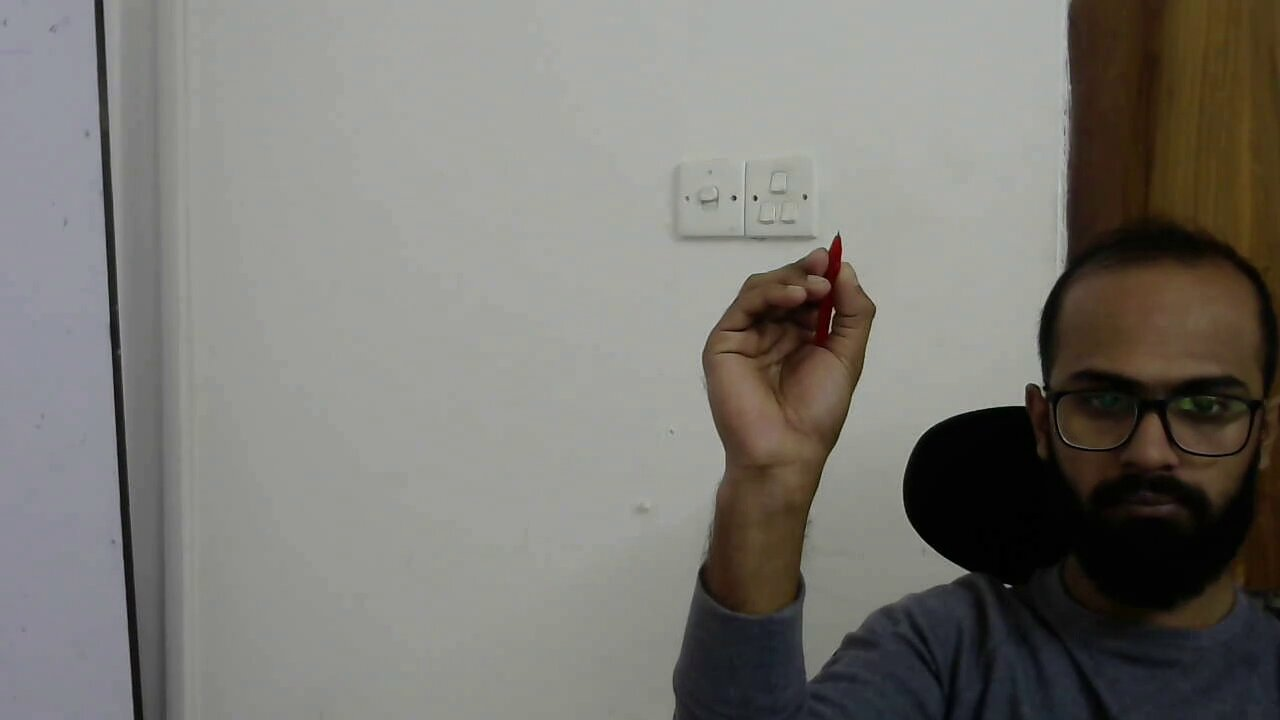pointer: (694, 233, 902, 389)
